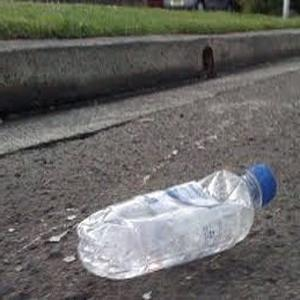Plastic: (71, 157, 277, 282)
